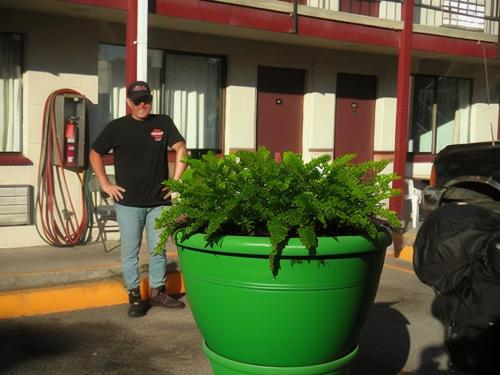person: (90, 78, 197, 324)
person/foot: (128, 301, 146, 317)
person/hand: (102, 183, 125, 202), (171, 169, 191, 185)
person/head: (125, 80, 152, 118)
pottedplant: (137, 148, 401, 375)
